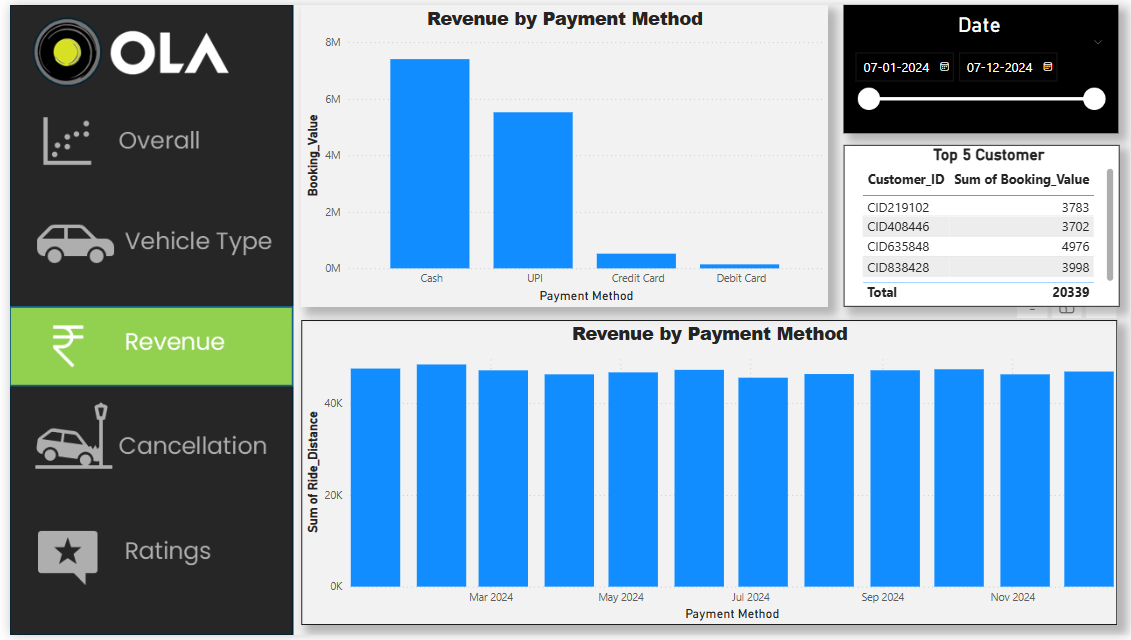

The page's visual inventory and layout, read from the dashboard file:
{"tool":"powerbi","page":{"name":"Revenue","canvas":[1280,720],"ordinal":2},"visuals":[{"type":"actionButton","box":[0,227.8,323.3,90],"z":0},{"type":"actionButton","box":[0,114.4,323.3,90],"z":1000},{"type":"actionButton","box":[0,445.6,323.3,106.7],"z":2000},{"type":"actionButton","box":[0,573.3,323.3,110],"z":3000},{"type":"columnChart","title":"Revenue by Payment Method","fields":{"Category":["Bookings.Payment_Method"],"Y":["Sum(Bookings.Booking_Value)"]},"box":[332.5,0,602.5,345],"z":4000},{"type":"columnChart","title":"Revenue by Payment Method","fields":{"Y":["Sum(Bookings.Ride_Distance)"],"Category":["Bookings.Date"]},"box":[332.5,360,933.8,348.8],"z":5000},{"type":"slicer","title":"Date","fields":{"Values":["Bookings.Date"]},"box":[952.5,0,313.8,146.2],"z":6000},{"type":"tableEx","title":"Top 5 Customer","fields":{"Values":["Bookings.Customer_ID","Sum(Bookings.Booking_Value)"]},"box":[952.5,160,315,185],"z":7000}]}

Visuals, with their boxes in screenshot pixels (x1, y1, x2, y2), scaled from the page's 1280x720 canvas onto the 1131x640 screenshot:
actionButton: bbox=[0, 202, 286, 282]
actionButton: bbox=[0, 102, 286, 182]
actionButton: bbox=[0, 396, 286, 491]
actionButton: bbox=[0, 510, 286, 607]
"Revenue by Payment Method" columnChart: bbox=[294, 0, 826, 307]
"Revenue by Payment Method" columnChart: bbox=[294, 320, 1119, 630]
"Date" slicer: bbox=[842, 0, 1119, 130]
"Top 5 Customer" tableEx: bbox=[842, 142, 1120, 307]
